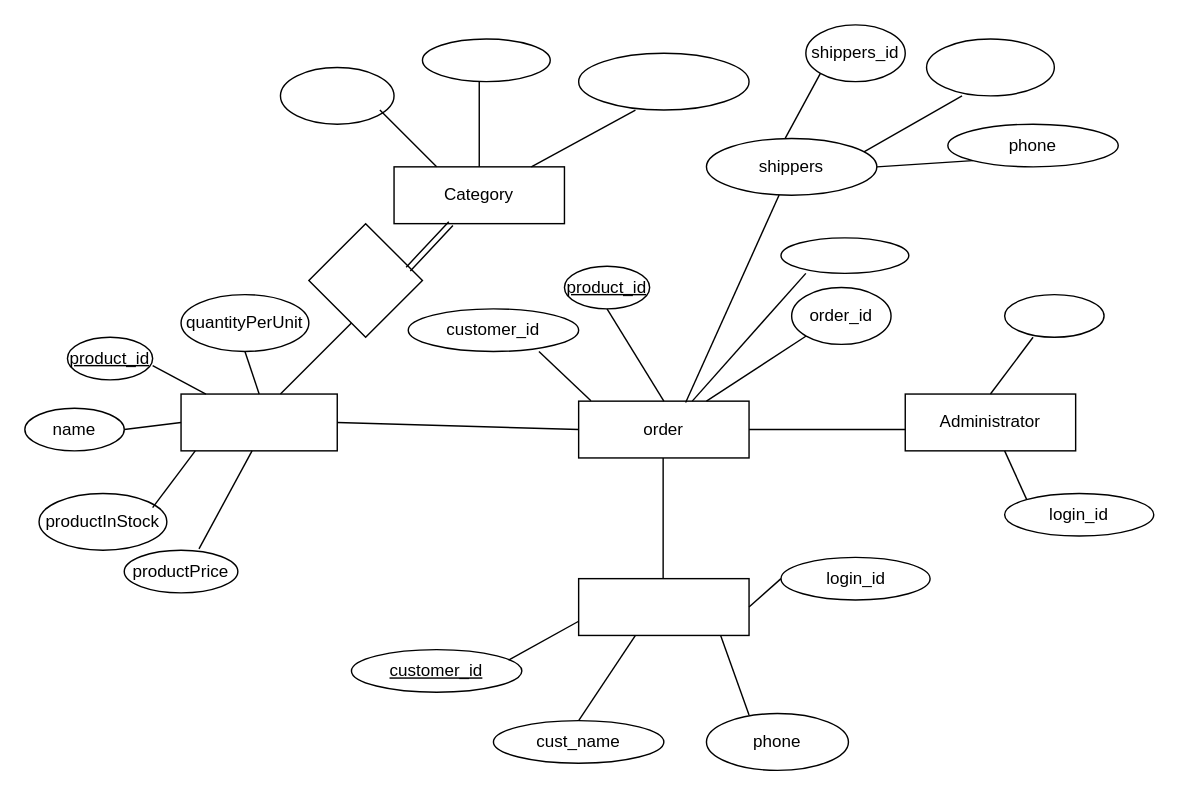
Image size: 1179x795. Some labels were removed from this diagram. The shapes that lost their labels are listed below. From the top down, each one's centre as x and y in pixels, then its label:
At pixel 485 60: "categoryName".
At pixel 989 67: "company_name".
At pixel 336 95: "categoryID".
At pixel 663 81: "Description".
At pixel 844 254: "orderDate".
At pixel 364 279: "has".
At pixel 1053 315: "admin_id".
At pixel 258 422: "Product".
At pixel 663 606: "Customer".
